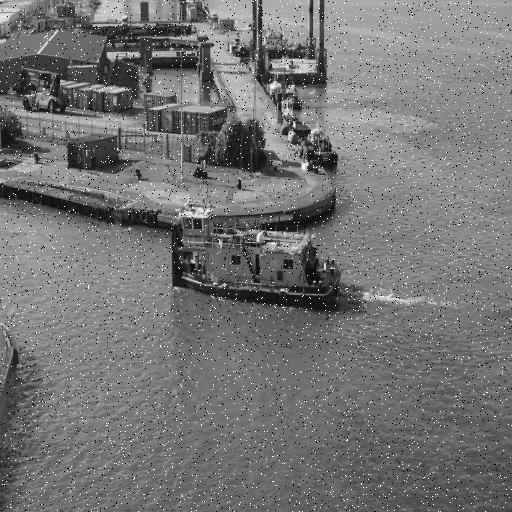tugboat: (170, 188, 345, 321)
